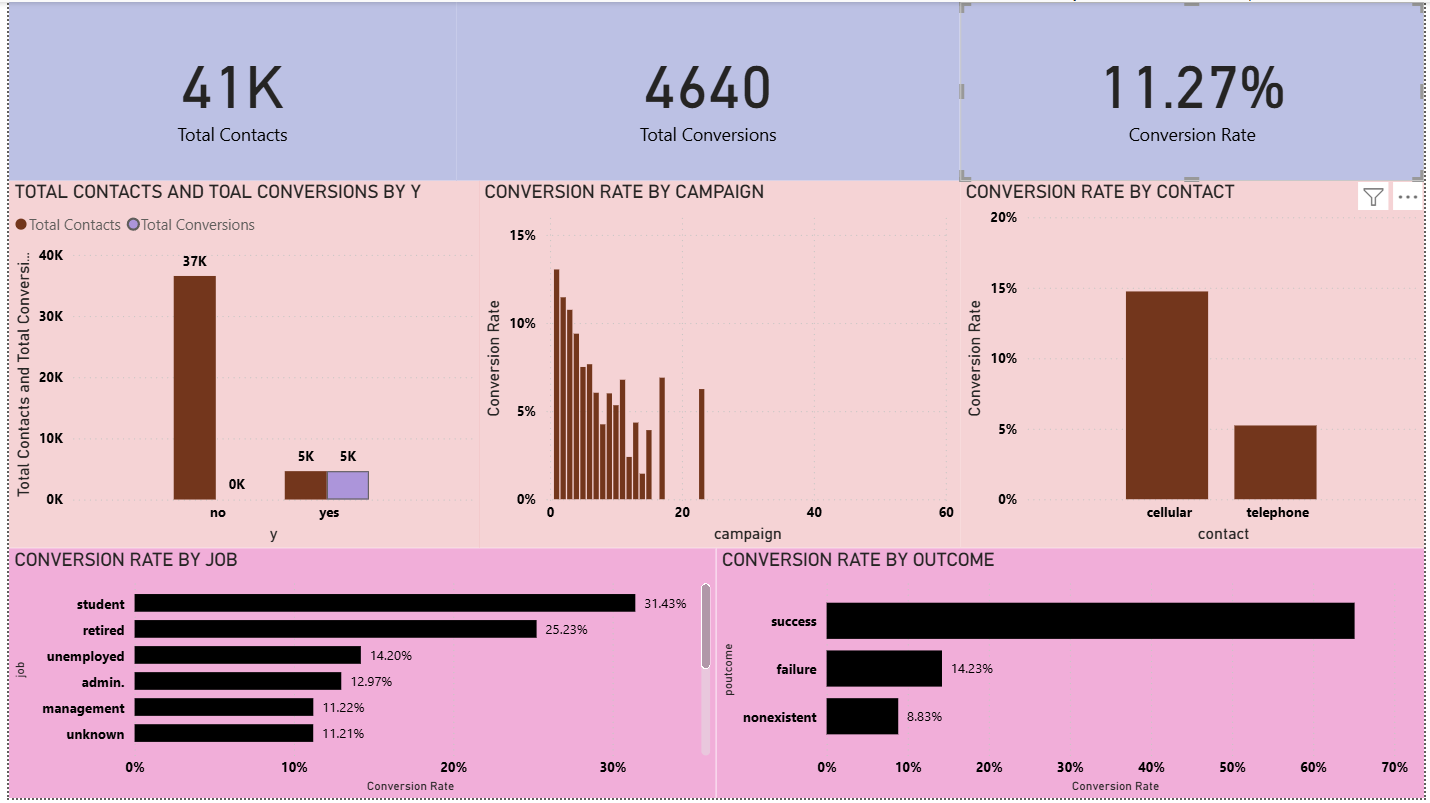

What the dashboard file says about the page in this screenshot:
{"tool":"powerbi","page":{"name":"Page 1","canvas":[1280,720],"ordinal":0},"visuals":[{"type":"card","fields":{"Values":["Sheet1.Total Contacts"]},"box":[0,0,404.8,161.9],"z":0},{"type":"card","fields":{"Values":["Sheet1.Total Conversions"]},"box":[404.8,0,455.6,161.9],"z":1000},{"type":"card","fields":{"Values":["Sheet1.Conversion Rate"]},"box":[860.4,0,419.9,161.9],"z":2000},{"type":"clusteredColumnChart","title":"TOTAL CONTACTS AND TOAL CONVERSIONS BY Y","fields":{"Category":["Sheet1.y"],"Y":["Sheet1.Total Contacts","Sheet1.Total Conversions"]},"box":[0,161.9,425.4,332.1],"z":3000},{"type":"barChart","title":"CONVERSION RATE BY JOB","fields":{"Category":["Sheet1.job"],"Y":["Sheet1.Conversion Rate"]},"box":[0,494,639.5,226.4],"z":4000},{"type":"columnChart","title":"CONVERSION RATE BY CONTACT","fields":{"Category":["Sheet1.contact"],"Y":["Sheet1.Conversion Rate"]},"box":[860.4,161.9,419.9,332.1],"z":5000},{"type":"clusteredColumnChart","title":"CONVERSION RATE BY CAMPAIGN","fields":{"Y":["Sheet1.Conversion Rate"],"Category":["Sheet1.campaign"]},"box":[425.4,161.9,435,332.1],"z":6000},{"type":"barChart","title":"CONVERSION RATE BY OUTCOME","fields":{"Category":["Sheet1.poutcome"],"Y":["Sheet1.Conversion Rate"]},"box":[639.5,494,640.8,226.4],"z":7000}]}

Visuals, with their boxes in screenshot pixels (x1, y1, x2, y2), scaled from the page's 1280x720 canvas onto the 1430x803 screenshot:
card - Sheet1.Total Contacts: crop(0, 0, 452, 181)
card - Sheet1.Total Conversions: crop(452, 0, 961, 181)
card - Sheet1.Conversion Rate: crop(961, 0, 1429, 181)
"TOTAL CONTACTS AND TOAL CONVERSIONS BY Y" clusteredColumnChart: crop(0, 181, 475, 551)
"CONVERSION RATE BY JOB" barChart: crop(0, 551, 714, 802)
"CONVERSION RATE BY CONTACT" columnChart: crop(961, 181, 1429, 551)
"CONVERSION RATE BY CAMPAIGN" clusteredColumnChart: crop(475, 181, 961, 551)
"CONVERSION RATE BY OUTCOME" barChart: crop(714, 551, 1429, 802)
